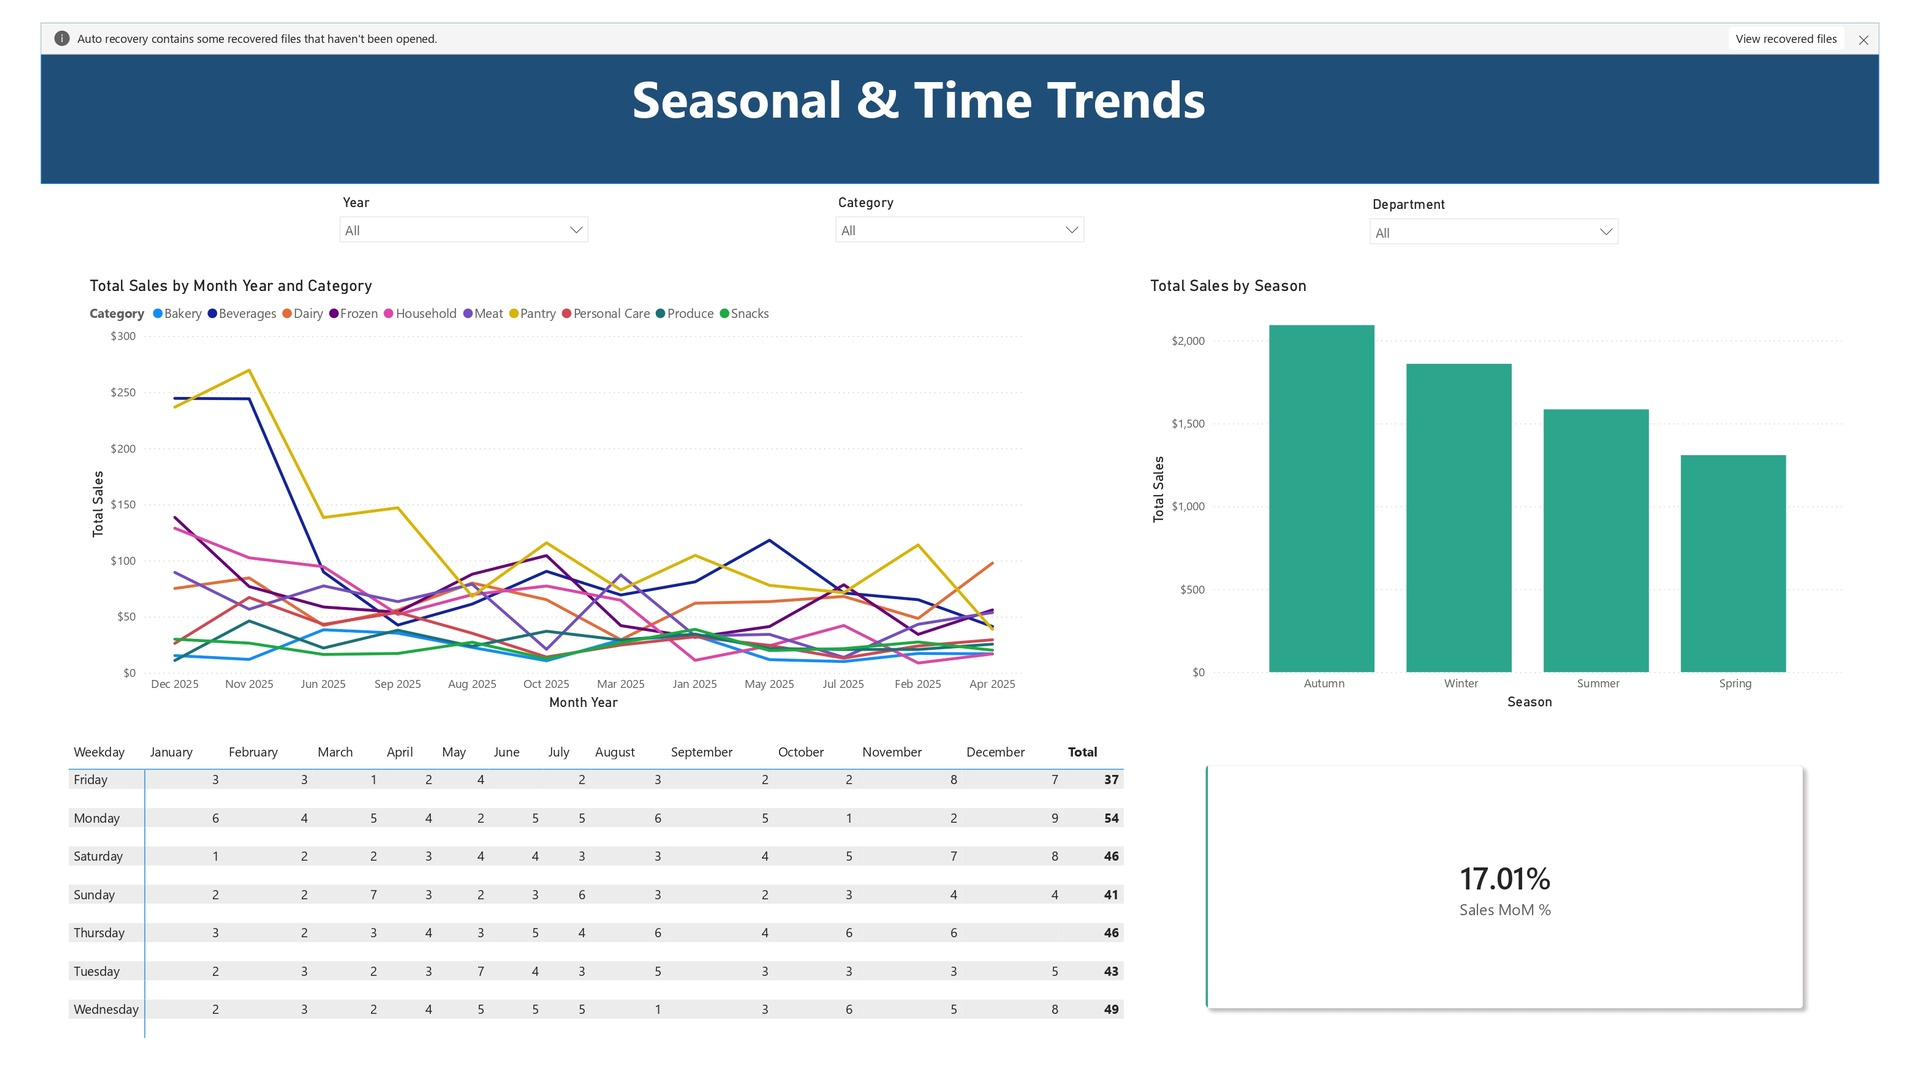

What the dashboard file says about the page in this screenshot:
{"tool":"powerbi","page":{"name":"Seasonal Trends","canvas":[1920,1080],"ordinal":3},"visuals":[{"type":"lineChart","fields":{"Category":["Calendar.Month Year"],"Series":["FactTransactions.Category"],"Y":["FactTransactions.Total Sales"]},"box":[46,264,984,458],"z":0},{"type":"columnChart","fields":{"Category":["Calendar.Season"],"Y":["FactTransactions.Total Sales"]},"box":[1154,264,736,458],"z":1000},{"type":"pivotTable","fields":{"Rows":["Calendar.Weekday"],"Columns":["Calendar.Month"],"Values":["FactTransactions.Transaction Count"]},"box":[24,746,1116,334],"z":2000},{"type":"cardVisual","fields":{"Data":["FactTransactions.Sales MoM %"]},"box":[1188,746,682,312],"z":3000},{"type":"slicer","fields":{"Values":["Calendar.Year"]},"box":[302,174,280,84],"z":4000},{"type":"slicer","fields":{"Values":["FactTransactions.Department"]},"box":[1378,176,280,84],"z":5000},{"type":"slicer","fields":{"Values":["FactTransactions.Category"]},"box":[820,174,280,90],"z":6000},{"type":"shape","box":[0,0,1920,168],"z":7000},{"type":"textbox","box":[176,36,1482,96],"z":7001}]}

Visuals, with their boxes on the page's 1920x1080 design canvas (x1, y1, x2, y2). These are canvas units, not pixel positions in the 1920x1080 screenshot, which may show the page scaled, cropped or inside an application window:
lineChart - Calendar.Month Year x FactTransactions.Category: {"left": 46, "top": 264, "right": 1030, "bottom": 722}
columnChart - Calendar.Season x FactTransactions.Total Sales: {"left": 1154, "top": 264, "right": 1890, "bottom": 722}
pivotTable - Calendar.Weekday x Calendar.Month: {"left": 24, "top": 746, "right": 1140, "bottom": 1080}
cardVisual - FactTransactions.Sales MoM %: {"left": 1188, "top": 746, "right": 1870, "bottom": 1058}
slicer - Calendar.Year: {"left": 302, "top": 174, "right": 582, "bottom": 258}
slicer - FactTransactions.Department: {"left": 1378, "top": 176, "right": 1658, "bottom": 260}
slicer - FactTransactions.Category: {"left": 820, "top": 174, "right": 1100, "bottom": 264}
shape: {"left": 0, "top": 0, "right": 1920, "bottom": 168}
textbox: {"left": 176, "top": 36, "right": 1658, "bottom": 132}
